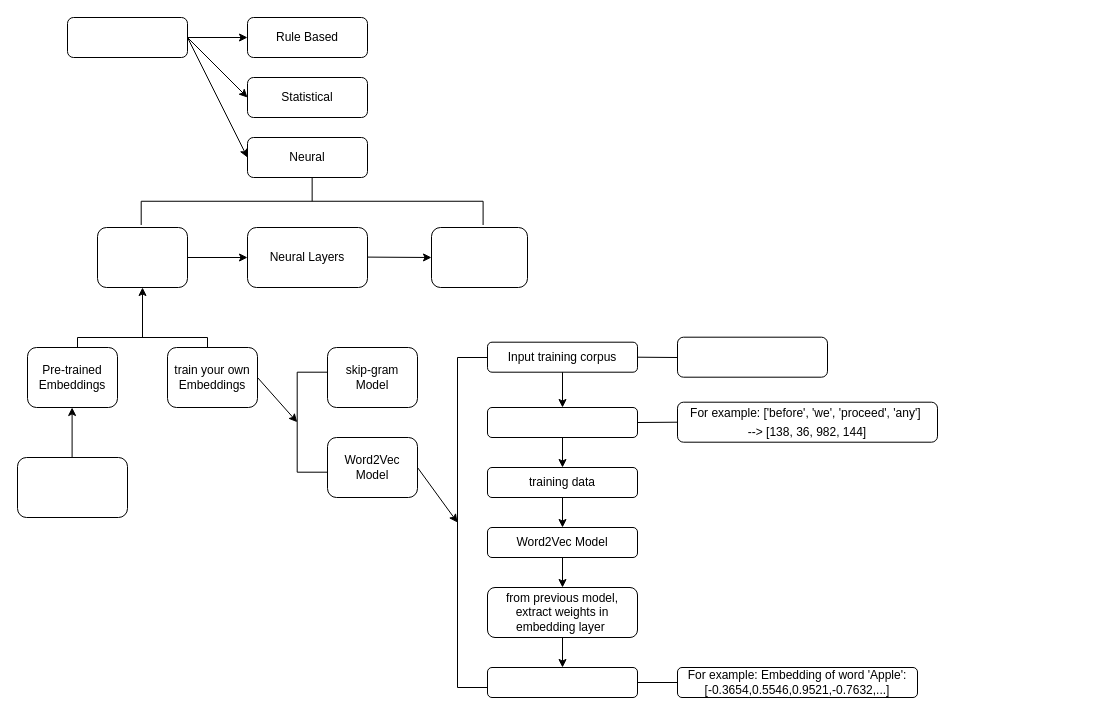
Image size: 1108x715. Some labels were removed from this diagram. The box of each missing label's shape, as (x1, y1, x2, y2) in pixels:
Input: word embeddings: (96, 226, 188, 288)
like shakespeare.txt or USNews: (676, 336, 828, 377)
NLP TASKS: (66, 16, 188, 58)
Output: Fruitful Result: (430, 226, 528, 288)
Pre-trained GloVe embeddings: Download, decode and just use it: (16, 456, 128, 518)
vectorize corpus into indexes: (486, 406, 638, 438)
word embeddings: (486, 666, 638, 698)
